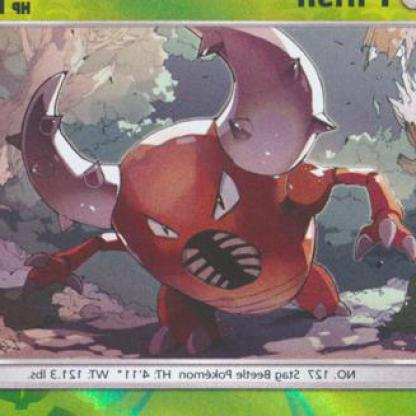Pinsir: (2, 0, 416, 414)
